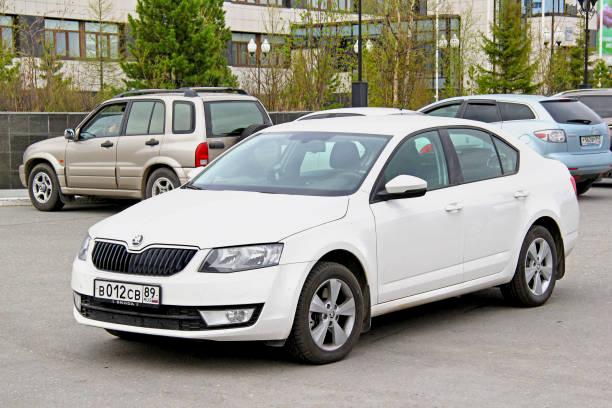skoda: (126, 229, 150, 251)
